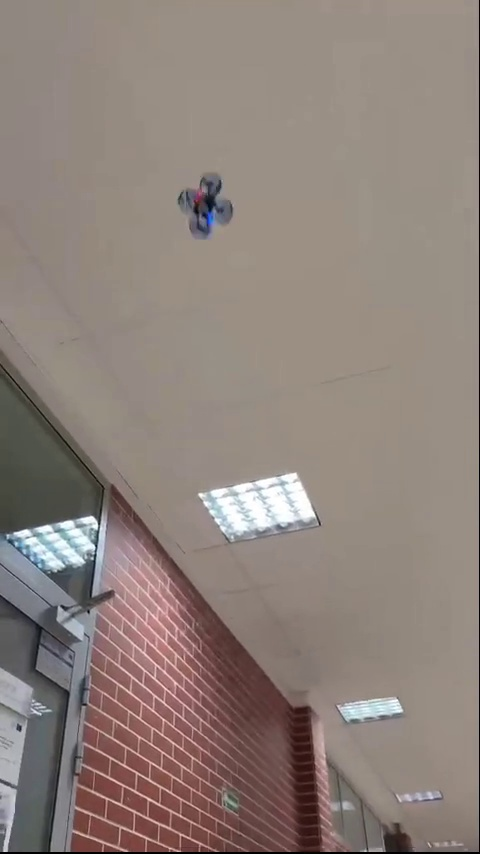drone: (176, 180, 231, 234)
